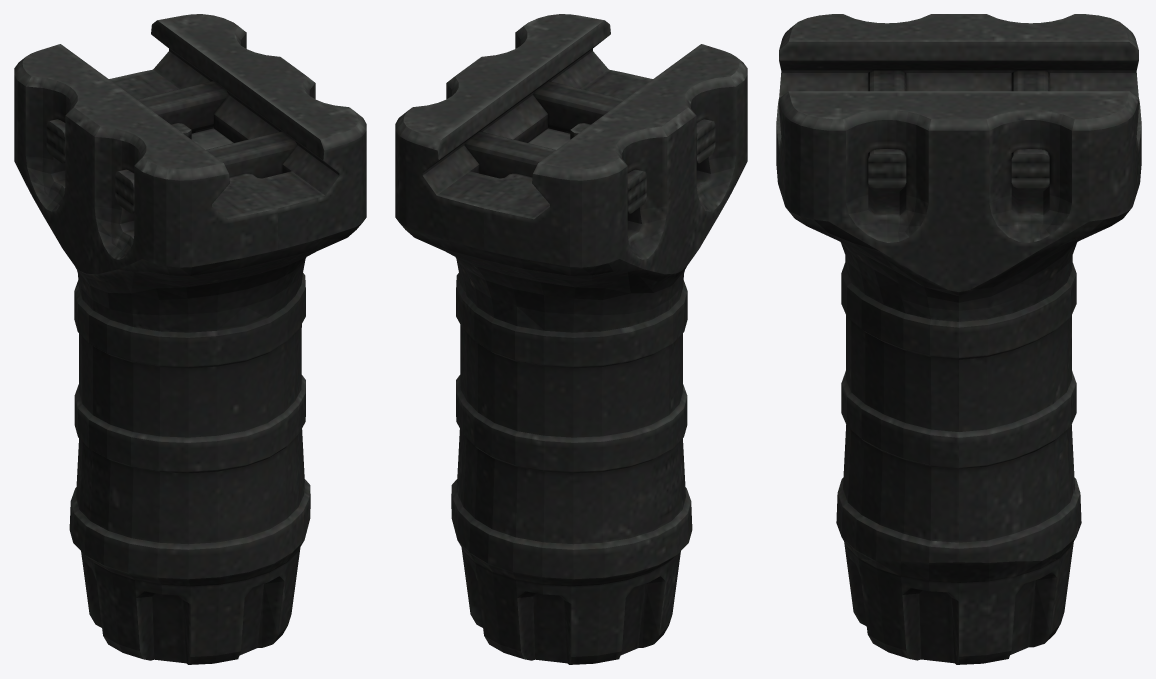
The picture shows the model from 3 angles, left to right: view 1: azimuth 30°, elevation 25°; view 2: azimuth 150°, elevation 25°; view 3: azimuth 270°, elevation 25°; orthographic projection. The views are drawn at different scales.
Parts seen in each view (by area): view 1: TW_558032614bdc2de7118b4585_PZ_Import; view 2: TW_558032614bdc2de7118b4585_PZ_Import; view 3: TW_558032614bdc2de7118b4585_PZ_Import.
Boxes of the visible parts, <box> form: TW_558032614bdc2de7118b4585_PZ_Import: <box>14,14,366,664</box>; TW_558032614bdc2de7118b4585_PZ_Import: <box>395,14,747,664</box>; TW_558032614bdc2de7118b4585_PZ_Import: <box>776,14,1141,664</box>.
Bounding box in the file's own units: 0.0216 × 0.0297 × 0.0504.
Materials: 1 (1 with a texture image).
